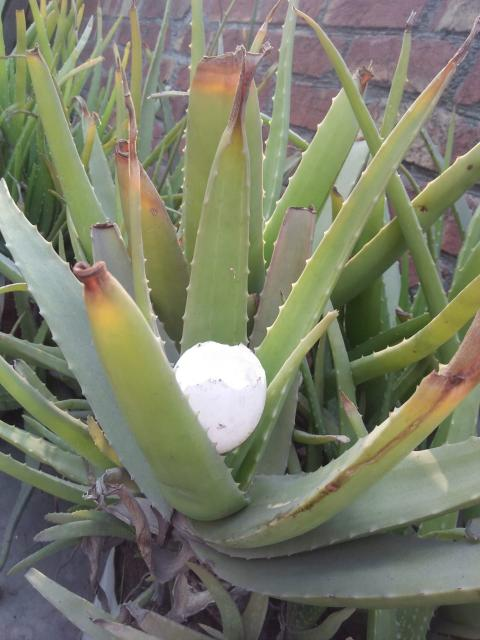Roto: (176, 341, 267, 454)
